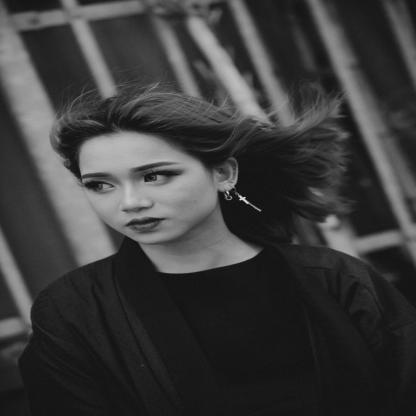Eye: (142, 170, 186, 186), (81, 180, 116, 194)
Mouth: (119, 212, 170, 235)
Nose: (118, 184, 152, 212)
